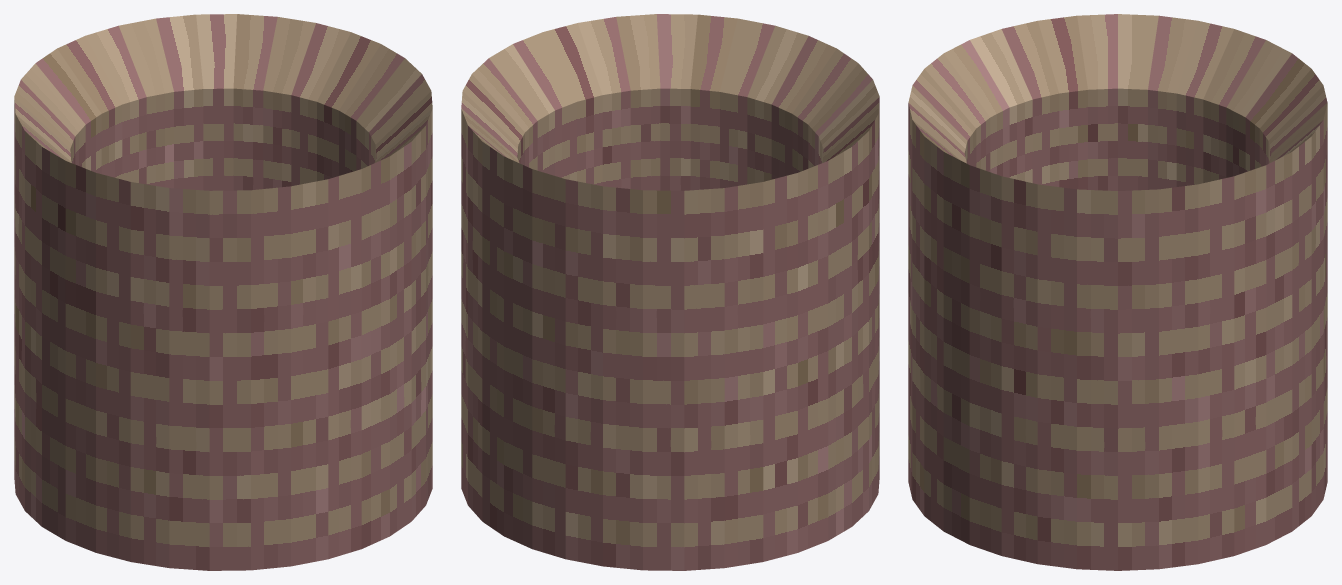
File: sewer_ladder_tunnel.glb
3 renders of one model, left to right at view 1: azimuth 30°, elevation 25°; view 2: azimuth 150°, elevation 25°; view 3: azimuth 270°, elevation 25°, orthographic.
Visible parts, largest first — view 1: Cylinder; view 2: Cylinder; view 3: Cylinder.
Boxes of the visible parts, x1=… form: Cylinder: x1=14, y1=14, x2=432, y2=570; Cylinder: x1=461, y1=14, x2=879, y2=570; Cylinder: x1=908, y1=14, x2=1327, y2=570.
Size of the model in its own units: 2.73 by 2.73 by 2.73.
1 material, 1 textured.
